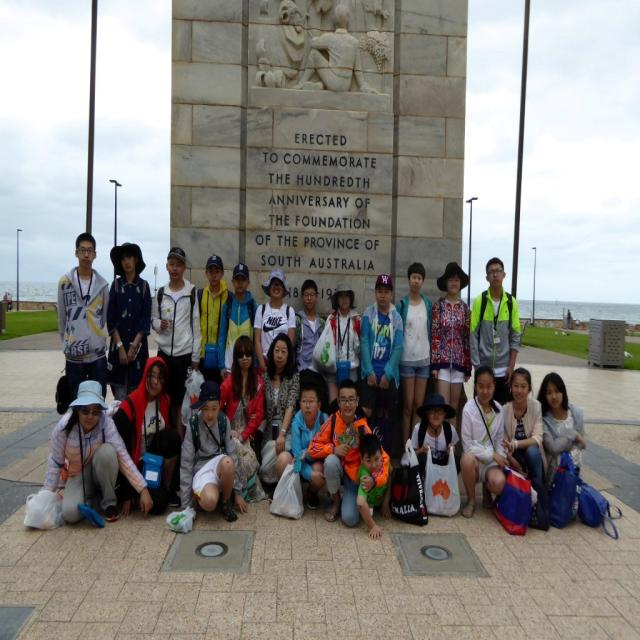body: (21, 378, 154, 532), (306, 378, 391, 532), (111, 354, 182, 518), (150, 245, 203, 445), (179, 379, 249, 523), (56, 230, 110, 410), (292, 0, 389, 96), (358, 271, 404, 465), (217, 333, 266, 504), (468, 256, 523, 407), (458, 365, 511, 520), (395, 260, 436, 452), (105, 240, 153, 402), (429, 260, 473, 432), (274, 382, 330, 512), (259, 331, 301, 486), (197, 253, 234, 414), (501, 365, 548, 487), (536, 372, 587, 478), (216, 262, 260, 382), (294, 278, 330, 417), (252, 267, 298, 375), (410, 392, 461, 483), (326, 281, 362, 409), (355, 432, 393, 541), (565, 308, 581, 330), (0, 289, 12, 314)
